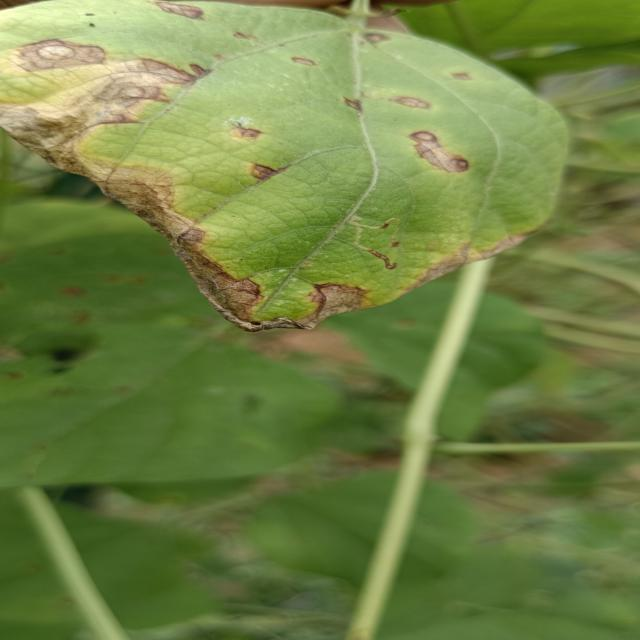Dolicos bean_cercospora leaf spot: (0, 0, 576, 324)
